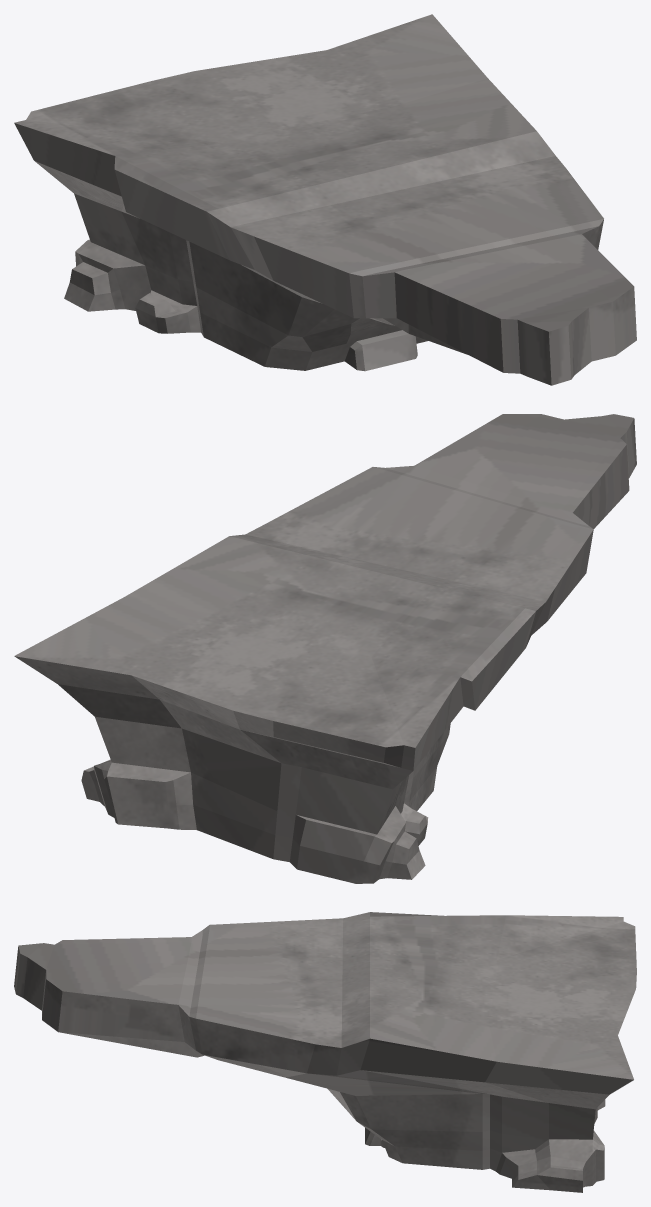
The model's file is rocher 2.fbx.
The picture shows the model from 3 angles, top to bottom: view 1: azimuth 30°, elevation 25°; view 2: azimuth 150°, elevation 25°; view 3: azimuth 270°, elevation 25°; orthographic projection. The views are drawn at different scales.
Parts seen in each view (by area): view 1: rocher 2; view 2: rocher 2; view 3: rocher 2.
Part boxes in pixels (<box>): rocher 2: <box>14,14,636,385</box>; rocher 2: <box>14,414,636,883</box>; rocher 2: <box>14,912,636,1192</box>.
Bounding box in the file's own units: 3544 × 1674 × 5725.
